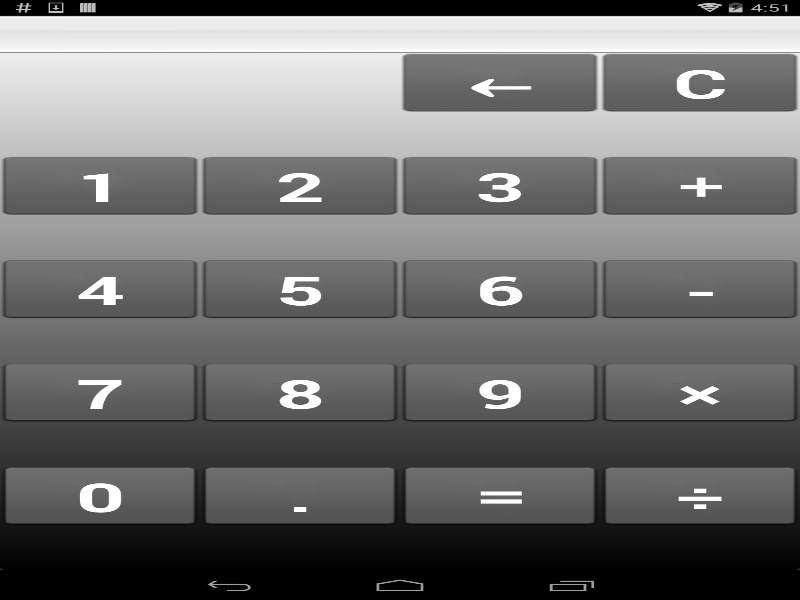Button: (400, 53, 600, 113), (600, 53, 800, 113), (0, 156, 200, 216), (200, 156, 400, 216), (400, 156, 600, 216), (600, 156, 800, 216), (0, 259, 200, 319), (200, 259, 400, 319), (400, 259, 600, 319), (600, 259, 800, 319), (0, 363, 200, 423), (200, 363, 400, 423), (400, 363, 600, 423), (600, 363, 800, 423), (0, 466, 200, 526), (200, 466, 400, 526), (400, 466, 600, 526), (600, 466, 800, 526)
Input: (0, 15, 800, 53)
